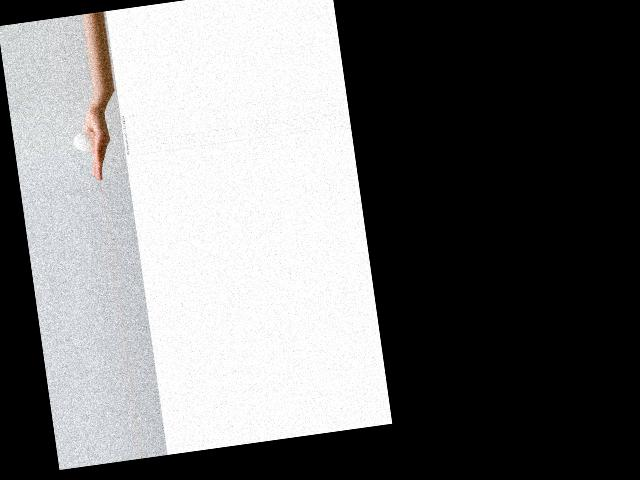egg: (72, 130, 97, 152)
